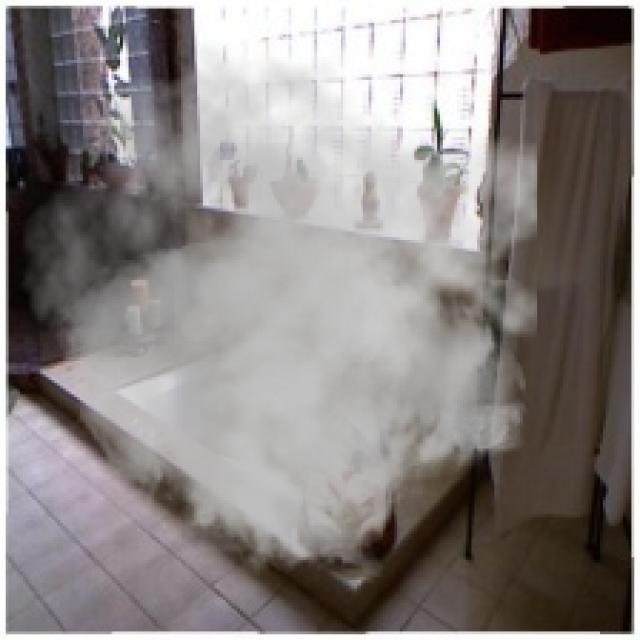smoke: (20, 40, 537, 586)
